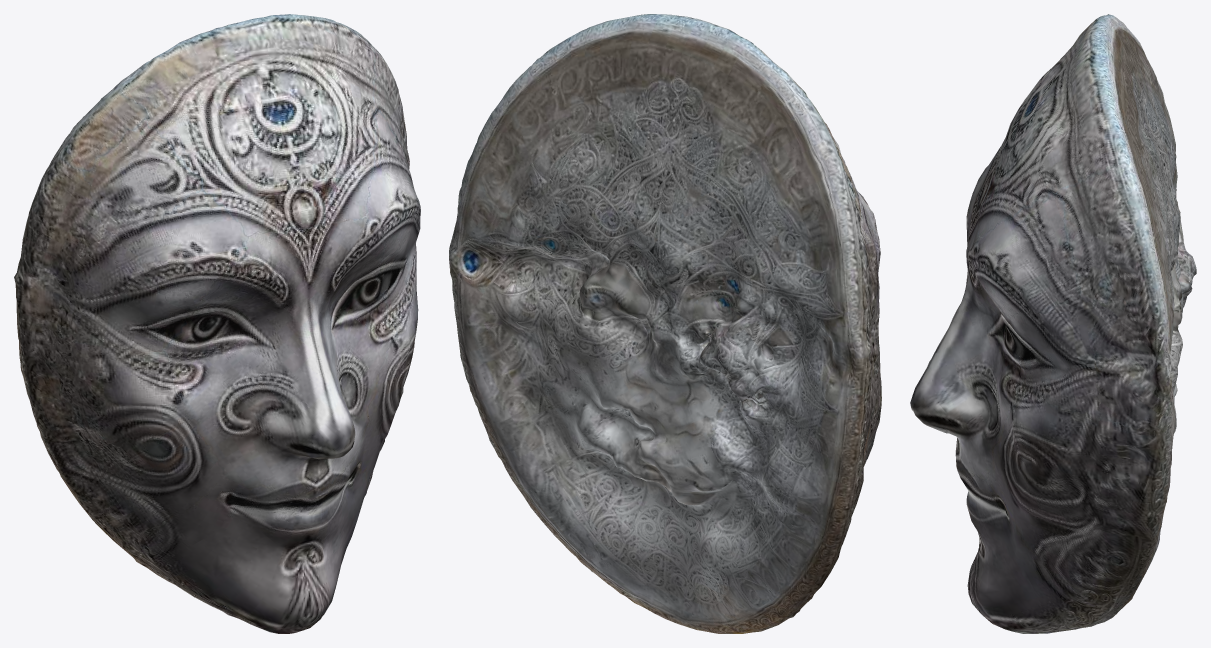
The model's file is mask-b.glb.
3 renders of one model, left to right at view 1: azimuth 30°, elevation 25°; view 2: azimuth 150°, elevation 25°; view 3: azimuth 270°, elevation 25°, orthographic. The views are drawn at different scales.
Parts seen in each view (by area): view 1: mask-b; view 2: mask-b; view 3: mask-b.
Boxes of the visible parts, x1=… form: mask-b: x1=14, y1=14, x2=420, y2=633; mask-b: x1=449, y1=14, x2=881, y2=633; mask-b: x1=910, y1=14, x2=1196, y2=633.
Size of the model in its own units: 0.2401 by 0.3392 by 0.1494.
Materials: 1 (1 with a texture image).
